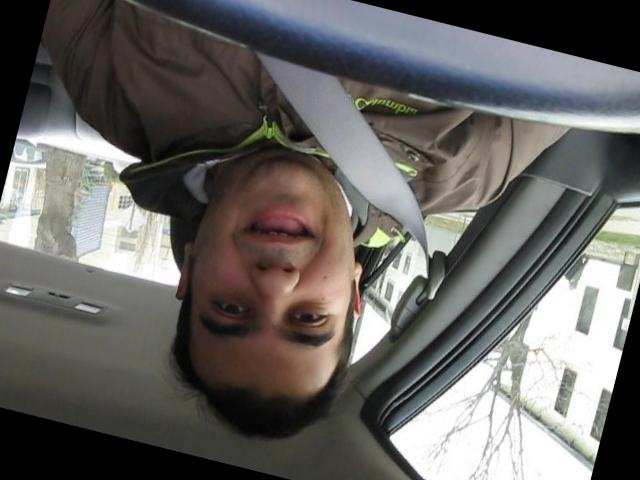eye_open: (284, 300, 333, 337), (204, 290, 254, 326)
face: (182, 140, 381, 380)
mouth_open: (236, 193, 334, 262)
